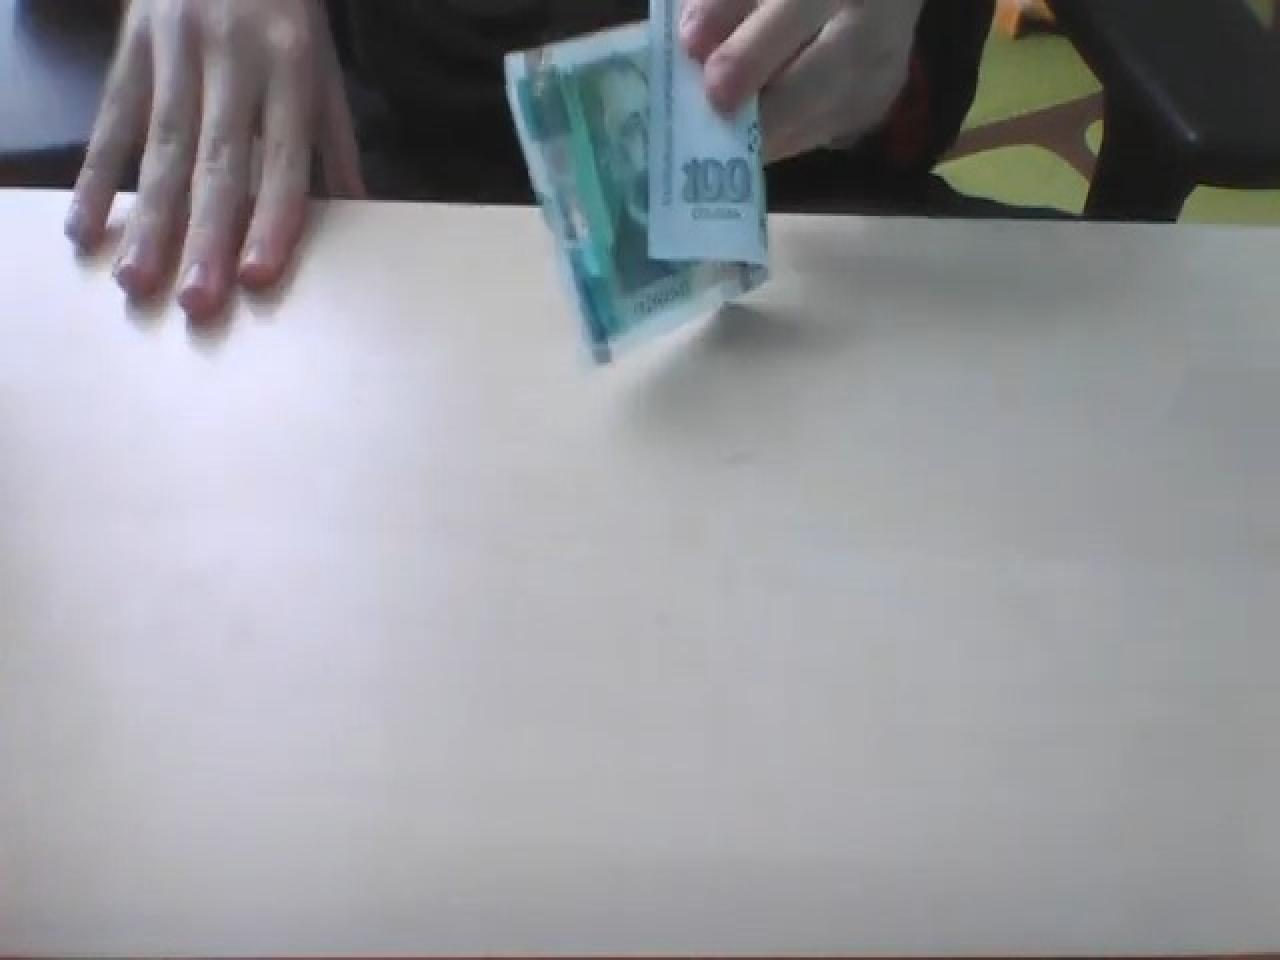100leva: (500, 2, 770, 362), (676, 149, 754, 208)
